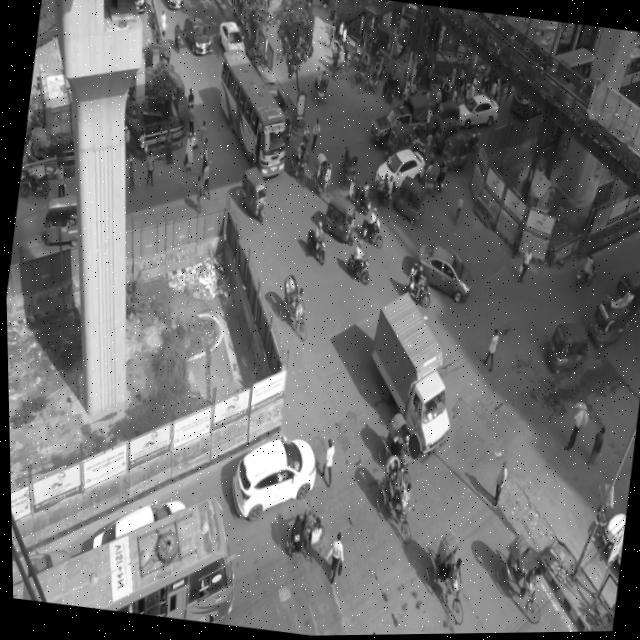cng: (540, 315, 591, 381), (30, 194, 86, 250), (585, 294, 631, 354), (232, 166, 275, 229), (392, 173, 433, 228), (317, 198, 360, 250), (436, 126, 472, 173), (380, 122, 416, 168), (429, 119, 461, 152), (430, 98, 458, 130)
rikshaw: (489, 534, 552, 632), (423, 526, 479, 626), (369, 456, 417, 549), (273, 270, 315, 349), (375, 406, 416, 485), (282, 135, 314, 193), (308, 154, 337, 205), (333, 148, 361, 190), (307, 64, 332, 111), (356, 61, 383, 100), (420, 156, 441, 203), (349, 52, 372, 94), (326, 40, 347, 82), (345, 35, 367, 71)
